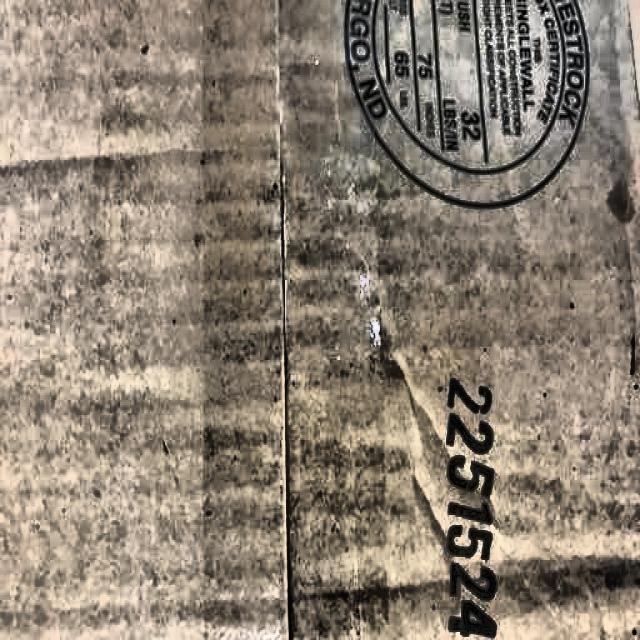cardboard: (280, 1, 639, 640)
